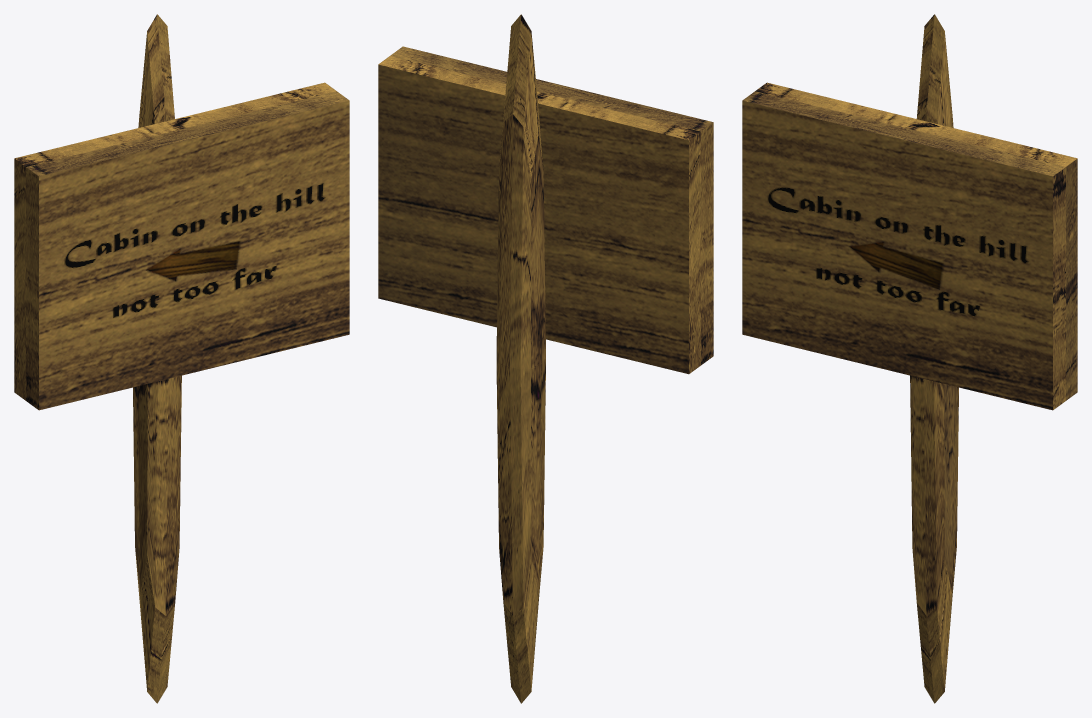
The model's file is sign.fbx.
3 renders of one model, left to right at view 1: azimuth 30°, elevation 25°; view 2: azimuth 150°, elevation 25°; view 3: azimuth 330°, elevation 25°, orthographic.
Visible parts, largest first — view 1: Cube.001, Cube; view 2: Cube.001, Cube; view 3: Cube.001, Cube.
Boxes of the visible parts, box(x1,y1,x2,y2) form: Cube.001: box(14, 82, 349, 410); Cube: box(133, 14, 181, 703); Cube.001: box(378, 46, 713, 374); Cube: box(496, 14, 545, 703); Cube.001: box(742, 82, 1077, 410); Cube: box(910, 14, 958, 703).
Bounding box in the file's own units: 112 × 238 × 30.26.
